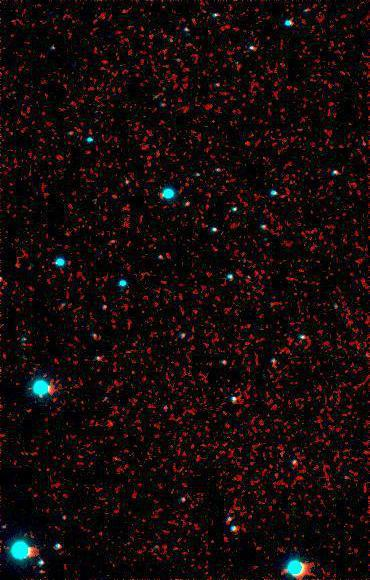star: (94, 410, 124, 440)
